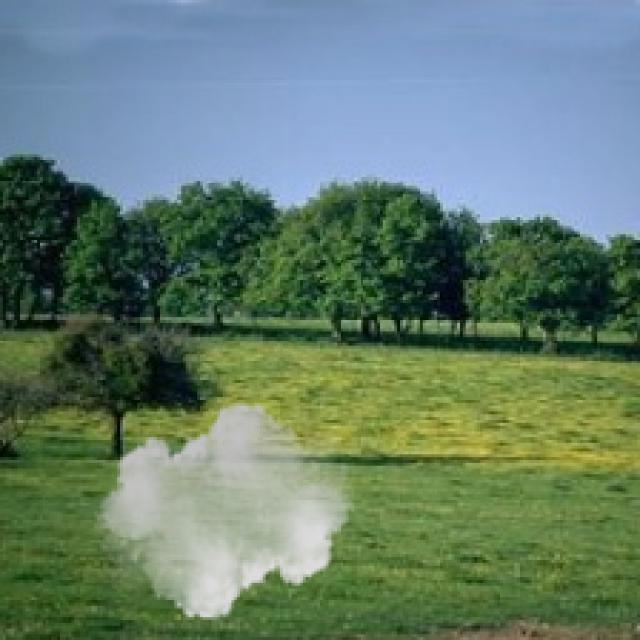Smoke: (94, 394, 354, 629)
